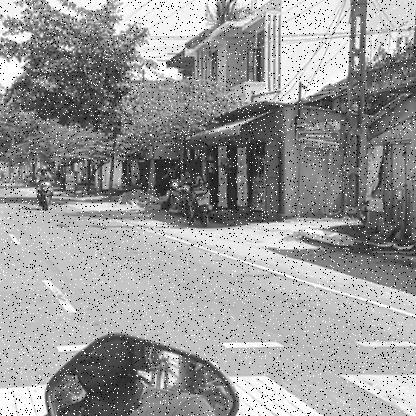motorcycle: (34, 181, 55, 212)
